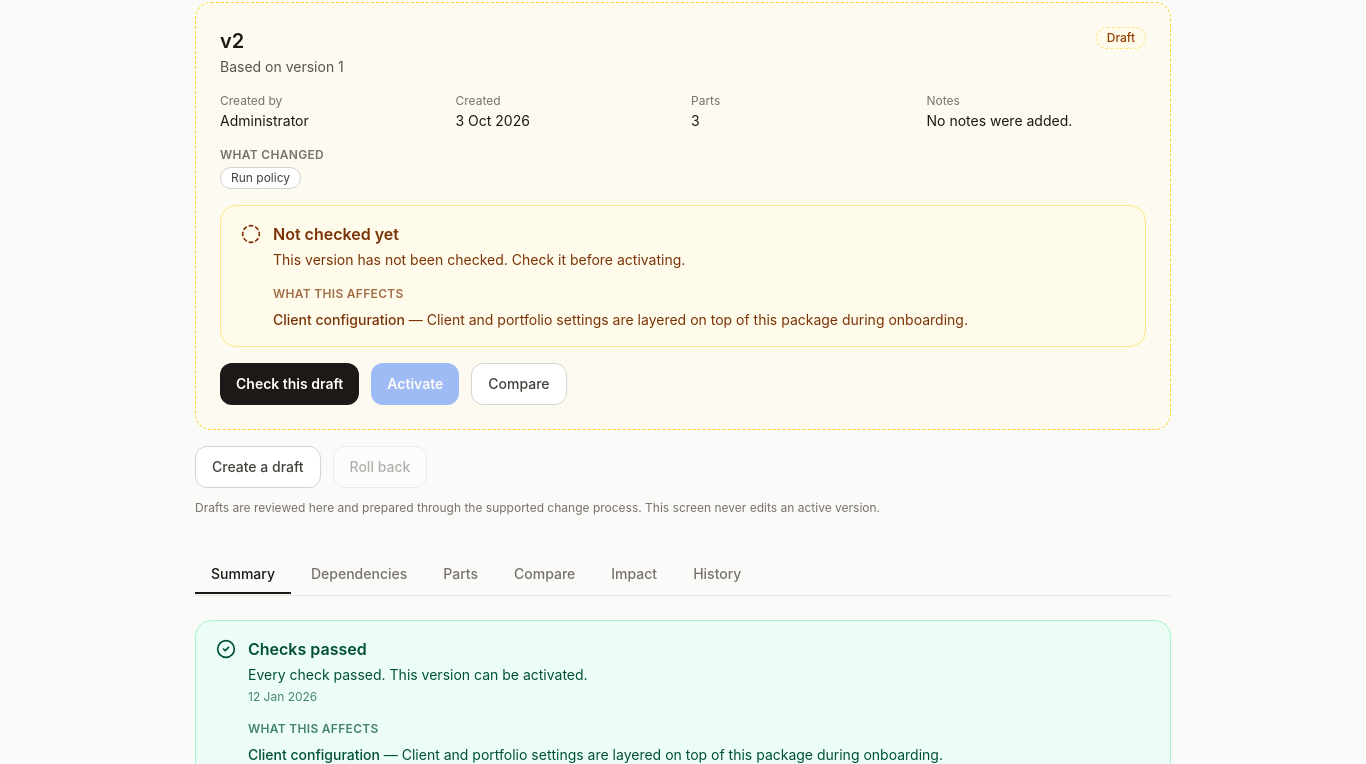
Test case: configuration lifecycle › shows a validation failure with plain English and hides the technical text
The image size is (1366, 764).
(page scrolled)
Click the button "Check this draft".
click(290, 384)  # box [220,363,359,405]
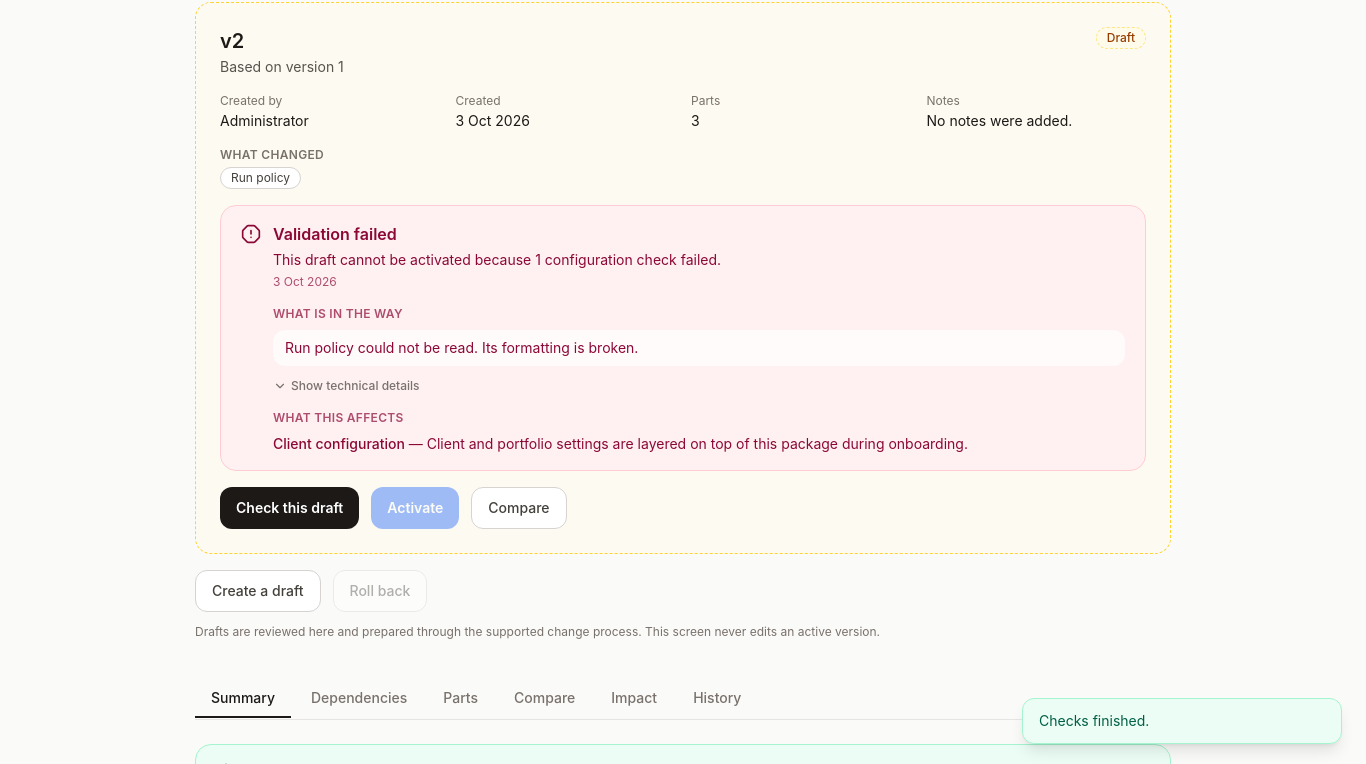
expect the text "Validation failed" is shown: met, box [273,224,397,244]
expect the text "1 configuration check failed" is shown: met, box [273,251,721,268]
expect the list item "Run policy could not be read. Its formatting is broken." is shown: met, box [273,330,1125,366]
Click the button "Show technical details".
click(346, 386)  # box [273,378,420,394]
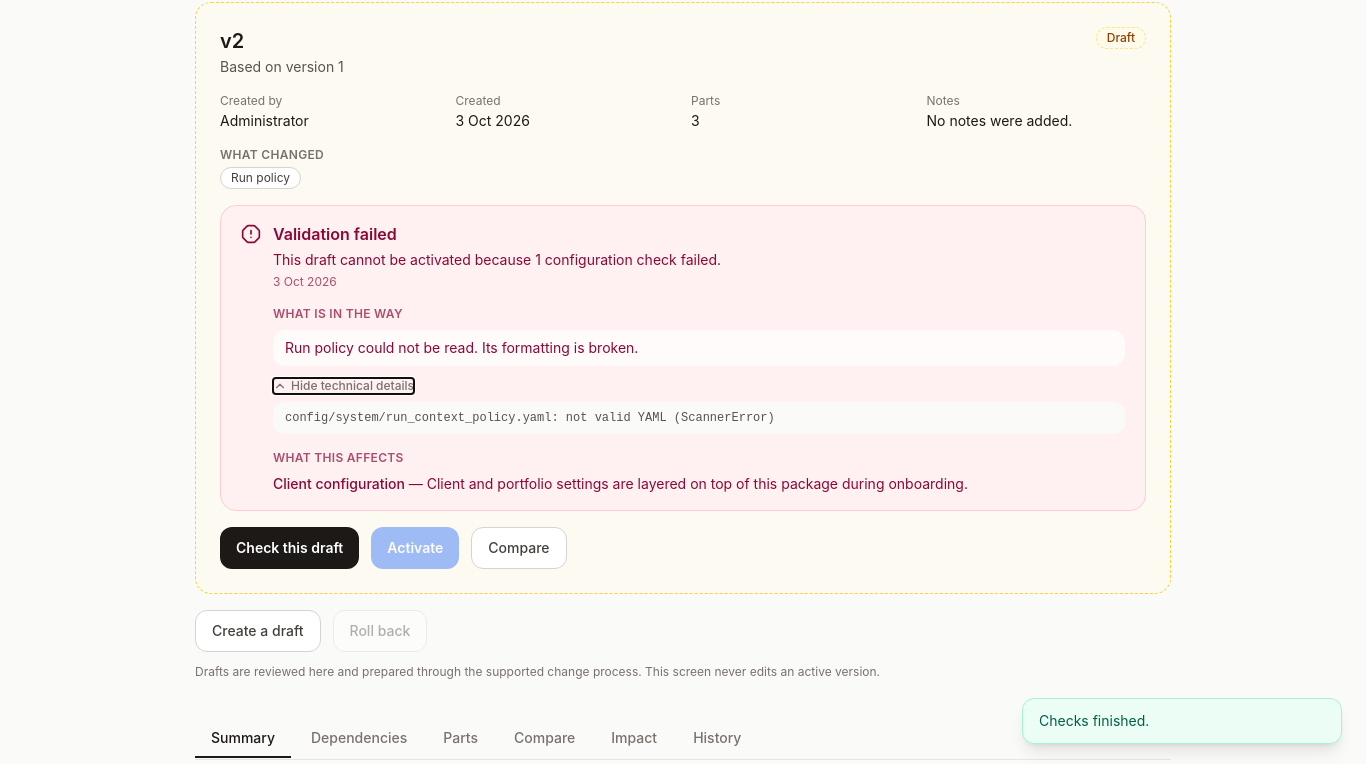
expect the button "Activate" is disabled: met, box [371,527,459,569]
expect the list item "ScannerError" is shown: met, box [285,411,775,425]
